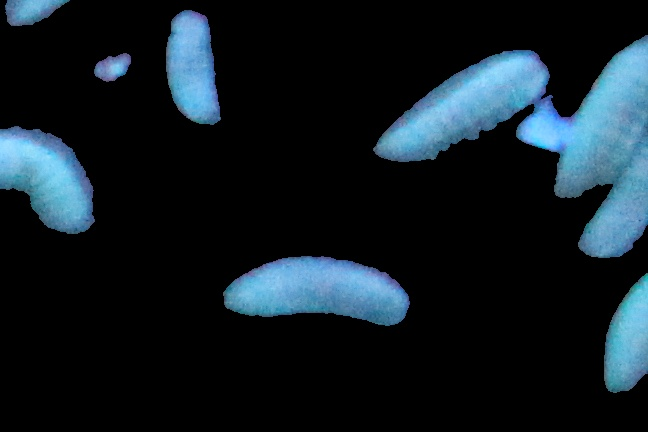larvae: (375, 54, 548, 159), (551, 30, 648, 200), (225, 258, 406, 326), (575, 137, 648, 257), (1, 136, 86, 233), (167, 13, 223, 127), (601, 271, 648, 398), (7, 1, 115, 26)
